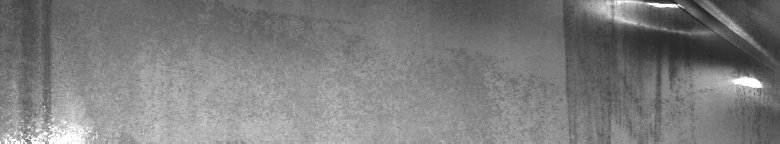ke: (607, 4, 766, 95)
